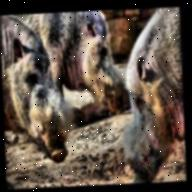boar: (0, 6, 132, 124), (112, 5, 192, 185), (0, 10, 80, 167)
